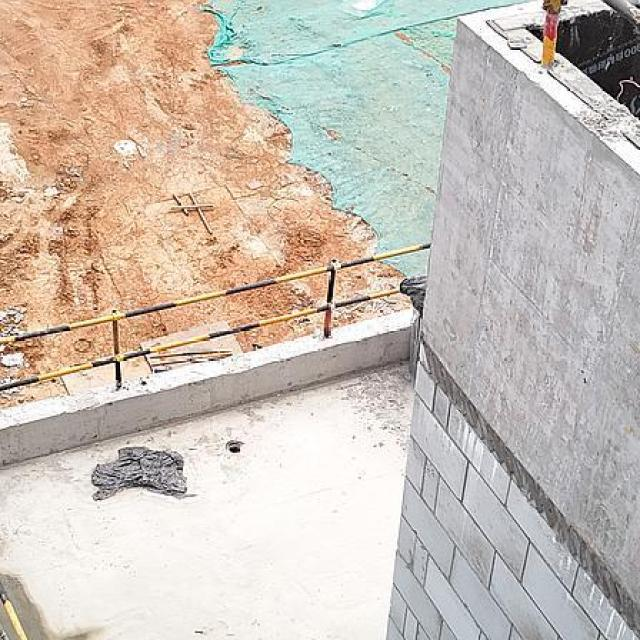edge_guardrail: (0, 240, 447, 393), (0, 583, 30, 640), (539, 0, 562, 66), (600, 0, 640, 33)
